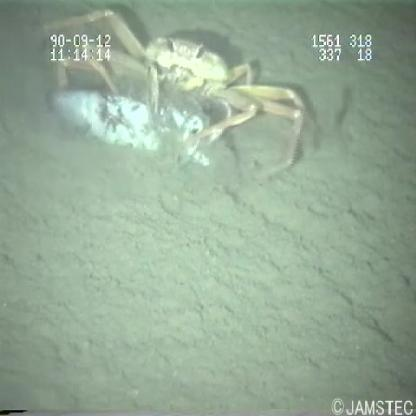Bio: (42, 7, 317, 185)
